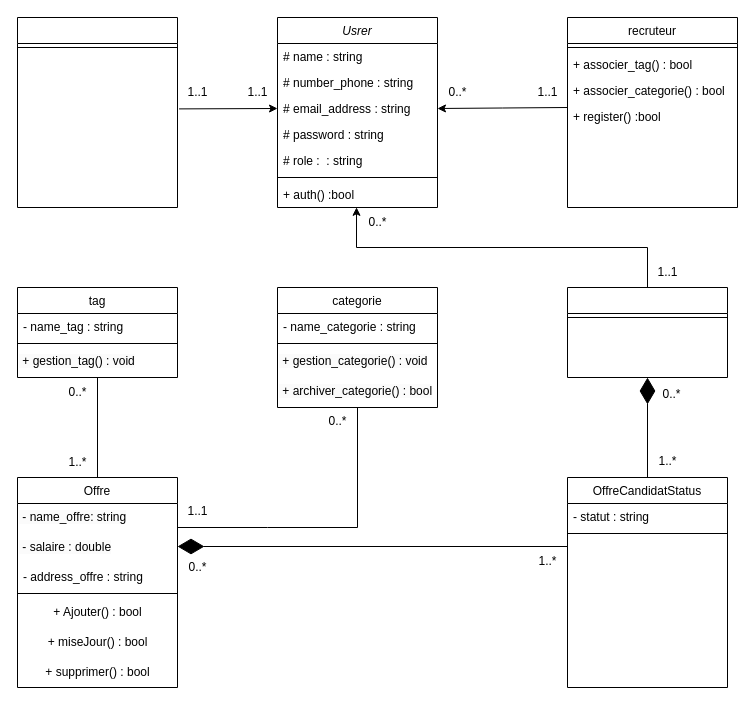
Image size: 755x705. Some labels were removed from this diagram. The shapes that lost their labels are listed below. From the top down, each one's centre as x and y in pixels, then its label:
At point 97,112: "administrateur".
At point 647,332: "Candidat".
